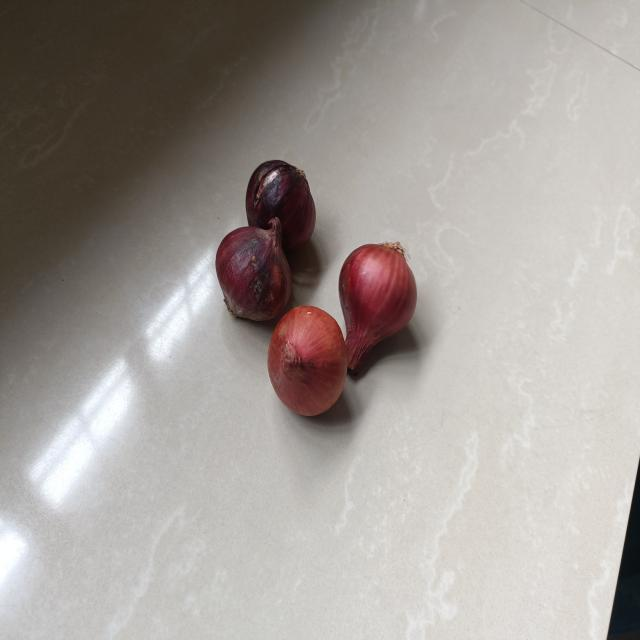onion: (336, 238, 422, 373), (265, 300, 351, 422), (214, 216, 294, 326), (243, 155, 319, 252)
